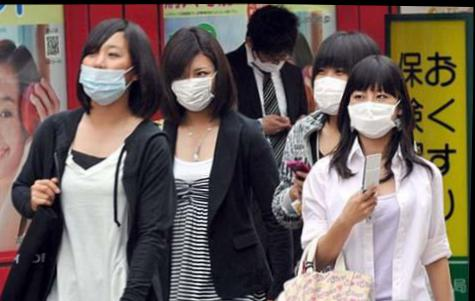NONE: (1, 86, 26, 183)
OK: (347, 84, 399, 138), (311, 59, 355, 115), (170, 60, 217, 111), (253, 46, 289, 73)
WRONG: (79, 40, 132, 108)
